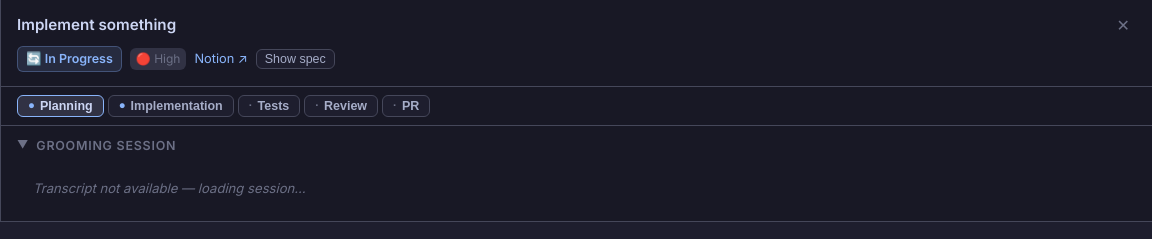
Test case: TaskDetail › planning section collapsed still occupies only its header height (flex: 0 0 auto) even with a code session present
Click the button with test id "planning-session-header": coordinates (97, 146) x1=17 y1=138 x2=176 y2=154
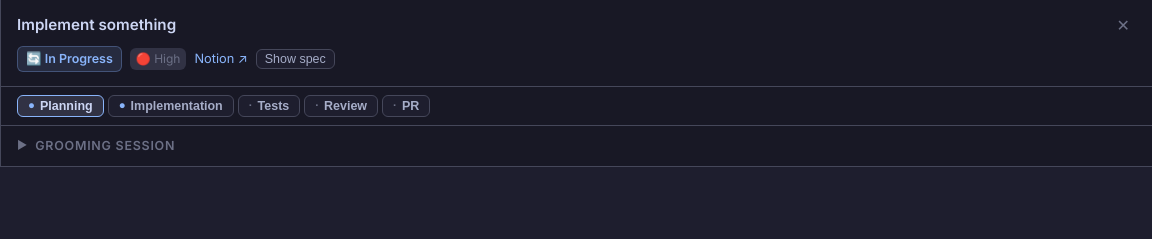
Expected: the element with test id "planning-session-body" is gone
